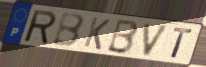B: (105, 18, 140, 56), (51, 13, 86, 49)
K: (82, 16, 112, 52)
R: (23, 8, 58, 46)
T: (170, 26, 194, 60)
V: (142, 22, 172, 58)
